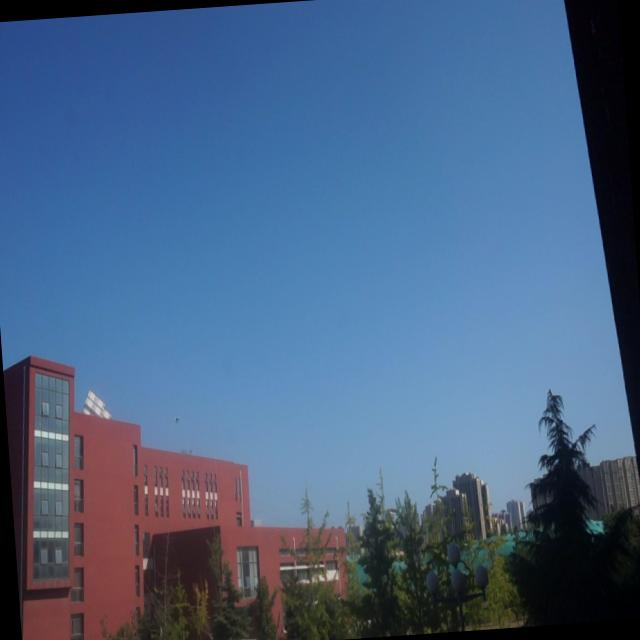drone: (171, 410, 183, 426)
